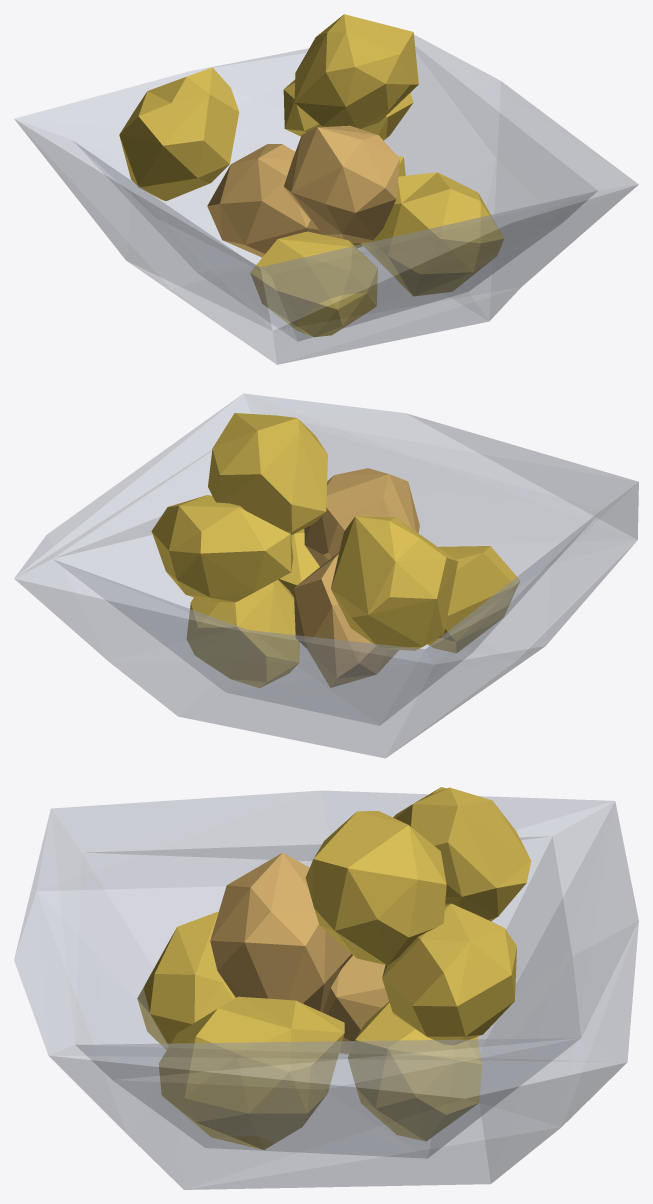
The model's file is Bowl_Lemons.fbx.
3 views of the same model, one above another, from view 1: azimuth 30°, elevation 25°; view 2: azimuth 150°, elevation 25°; view 3: azimuth 270°, elevation 25° (orthographic). The views are drawn at different scales.
Visible parts, largest first — view 1: Cube.015, Cube.023; view 2: Cube.015, Cube.023; view 3: Cube.015, Cube.023.
Boxes of the visible parts, left/top/right/bottom form: Cube.015: left=14, top=35, right=638, bottom=364; Cube.023: left=119, top=14, right=503, bottom=337; Cube.015: left=14, top=393, right=638, bottom=758; Cube.023: left=151, top=413, right=519, bottom=687; Cube.015: left=14, top=790, right=638, bottom=1189; Cube.023: left=137, top=787, right=531, bottom=1149.
Size of the model in its own units: 36.52 by 21.28 by 36.05.
